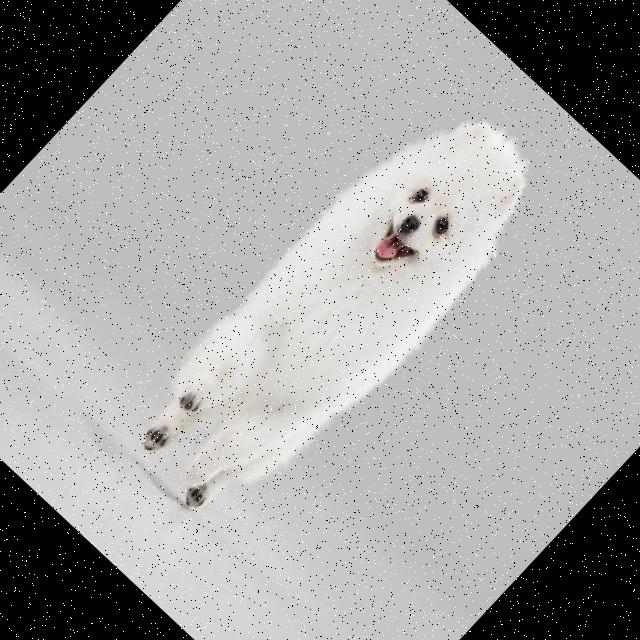Dog: (110, 75, 568, 548)
